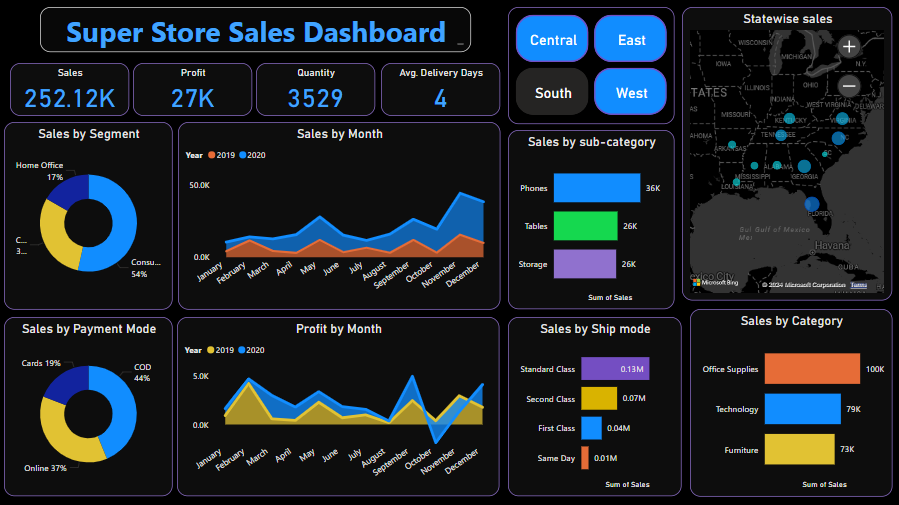

The dashboard page shown, as its layout file describes it:
{"tool":"powerbi","page":{"name":"Page 1","canvas":[1280,720],"ordinal":0},"visuals":[{"type":"clusteredBarChart","title":"Sales by sub-category","fields":{"Y":["Sum(SuperStore_Sales_Dataset.Sales)"],"Category":["SuperStore_Sales_Dataset.Sub-Category"]},"box":[723,186.9,236.1,254.1],"z":0},{"type":"barChart","title":"Sales by Category","fields":{"Category":["SuperStore_Sales_Dataset.Category"],"Y":["Sum(SuperStore_Sales_Dataset.Sales)"]},"box":[980.3,441,286.9,265.6],"z":1000},{"type":"clusteredBarChart","title":"Sales by Ship mode","fields":{"Y":["Sum(SuperStore_Sales_Dataset.Sales)"],"Category":["SuperStore_Sales_Dataset.Ship Mode"]},"box":[723,452.5,245.9,254.1],"z":2000},{"type":"stackedAreaChart","title":"Sales by Month","fields":{"Y":["Sum(SuperStore_Sales_Dataset.Sales)"],"Category":["SuperStore_Sales_Dataset.Order Date.Variation.Date Hierarchy.Month","SuperStore_Sales_Dataset.Order Date.Variation.Date Hierarchy.Day"],"Series":["SuperStore_Sales_Dataset.Order Date.Variation.Date Hierarchy.Year"]},"box":[255.7,175.4,457.4,265.6],"z":3000},{"type":"stackedAreaChart","title":"Profit by Month","fields":{"Category":["SuperStore_Sales_Dataset.Order Date.Variation.Date Hierarchy.Month","SuperStore_Sales_Dataset.Order Date.Variation.Date Hierarchy.Day"],"Series":["SuperStore_Sales_Dataset.Order Date.Variation.Date Hierarchy.Year"],"Y":["Sum(SuperStore_Sales_Dataset.Profit)"]},"box":[254.1,452.5,457.4,254.1],"z":4000},{"type":"map","title":"Statewise sales","fields":{"Category":["SuperStore_Sales_Dataset.State"],"Size":["Sum(SuperStore_Sales_Dataset.Sales)"]},"box":[968.9,13.1,298.4,416.4],"z":5000},{"type":"donutChart","title":"Sales by Segment","fields":{"Category":["SuperStore_Sales_Dataset.Segment"],"Y":["Sum(SuperStore_Sales_Dataset.Sales)"]},"box":[8.2,175.4,239.3,265.6],"z":6000},{"type":"donutChart","title":"Sales by Payment Mode","fields":{"Y":["Sum(SuperStore_Sales_Dataset.Sales)"],"Category":["SuperStore_Sales_Dataset.Payment Mode"]},"box":[8.2,452.5,239.3,254.1],"z":7000},{"type":"advancedSlicerVisual","fields":{"Values":["SuperStore_Sales_Dataset.Region"]},"box":[723,13.1,236.1,165.6],"z":8000},{"type":"textbox","title":"Super Store Sales Dashboard","box":[59,13.1,611.5,63.9],"z":9000},{"type":"card","title":"Sales","fields":{"Values":["Sum(SuperStore_Sales_Dataset.Sales)"]},"box":[16.4,91.8,168.9,75.4],"z":10000},{"type":"card","title":"Profit","fields":{"Values":["Sum(SuperStore_Sales_Dataset.Profit)"]},"box":[191.8,91.8,168.9,75.4],"z":11000},{"type":"card","title":"Quantity","fields":{"Values":["Sum(SuperStore_Sales_Dataset.Quantity)"]},"box":[365.6,91.8,168.9,75.4],"z":12000},{"type":"card","title":"Avg. Delivery Days","fields":{"Values":["Avg(SuperStore_Sales_Dataset.AvgDelivery)"]},"box":[542.6,91.8,168.9,75.4],"z":13000}]}

Visuals, with their boxes in screenshot pixels (x1, y1, x2, y2), scaled from the page's 1280x720 canvas onto the 899x505 screenshot:
"Sales by sub-category" clusteredBarChart: rect(508, 131, 674, 309)
"Sales by Category" barChart: rect(689, 309, 890, 496)
"Sales by Ship mode" clusteredBarChart: rect(508, 317, 681, 496)
"Sales by Month" stackedAreaChart: rect(180, 123, 501, 309)
"Profit by Month" stackedAreaChart: rect(178, 317, 500, 496)
"Statewise sales" map: rect(681, 9, 890, 301)
"Sales by Segment" donutChart: rect(6, 123, 174, 309)
"Sales by Payment Mode" donutChart: rect(6, 317, 174, 496)
advancedSlicerVisual - SuperStore_Sales_Dataset.Region: rect(508, 9, 674, 125)
"Super Store Sales Dashboard" textbox: rect(41, 9, 471, 54)
"Sales" card: rect(12, 64, 130, 117)
"Profit" card: rect(135, 64, 253, 117)
"Quantity" card: rect(257, 64, 375, 117)
"Avg. Delivery Days" card: rect(381, 64, 500, 117)
